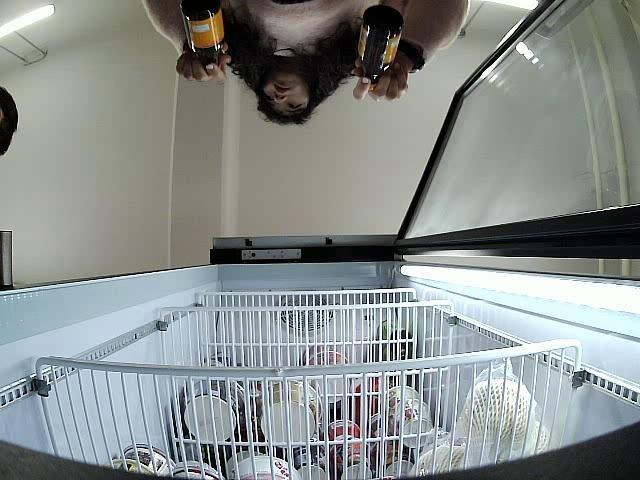17_vita500: (355, 6, 402, 90), (180, 0, 227, 70)
